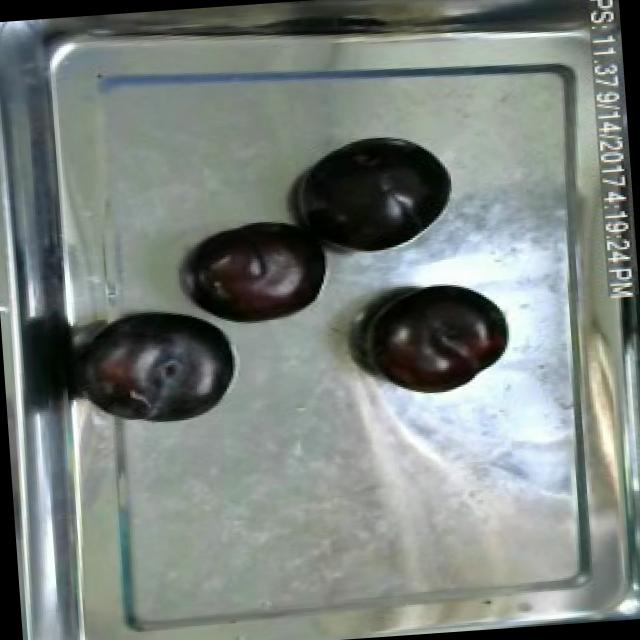Fruit: (288, 126, 464, 264), (78, 296, 246, 434), (362, 276, 516, 402), (186, 210, 333, 334)
